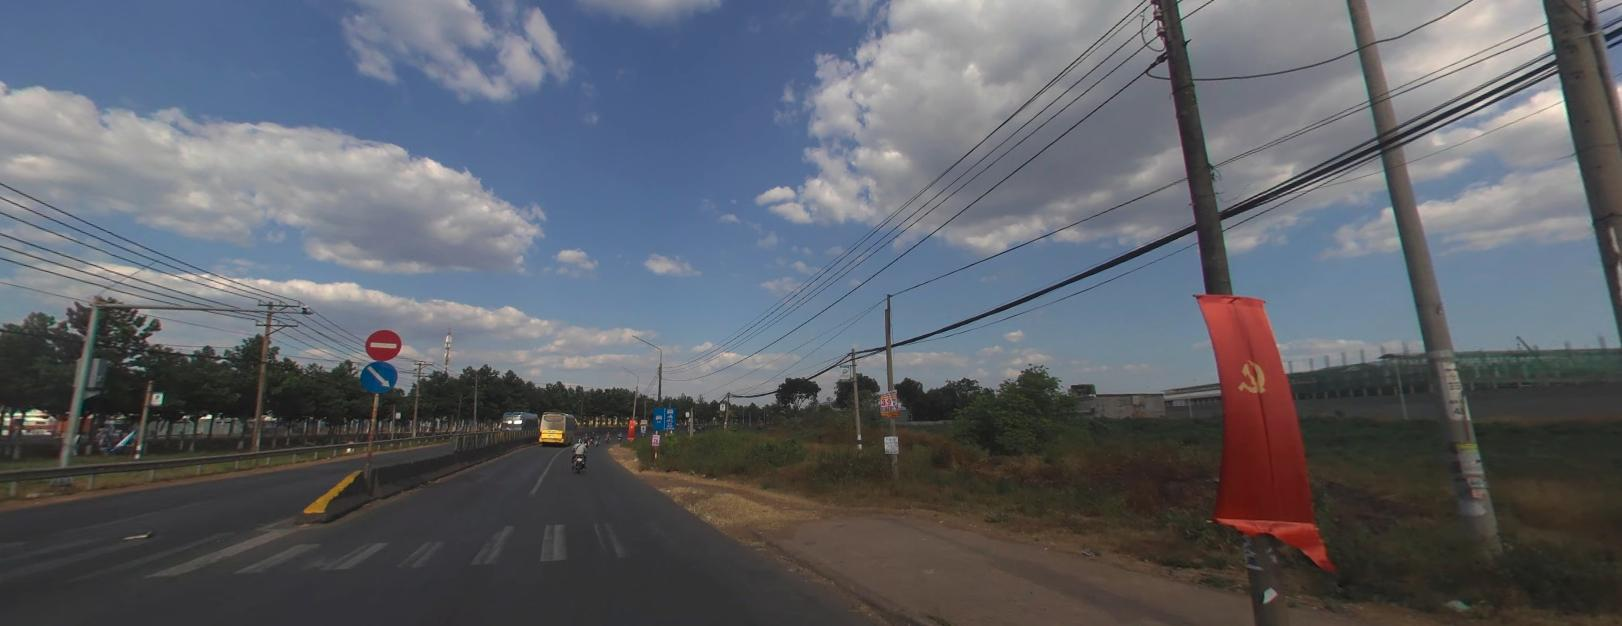Cam nguoc chieu: (364, 327, 401, 359)
Hieu lenh: (360, 358, 398, 391)
